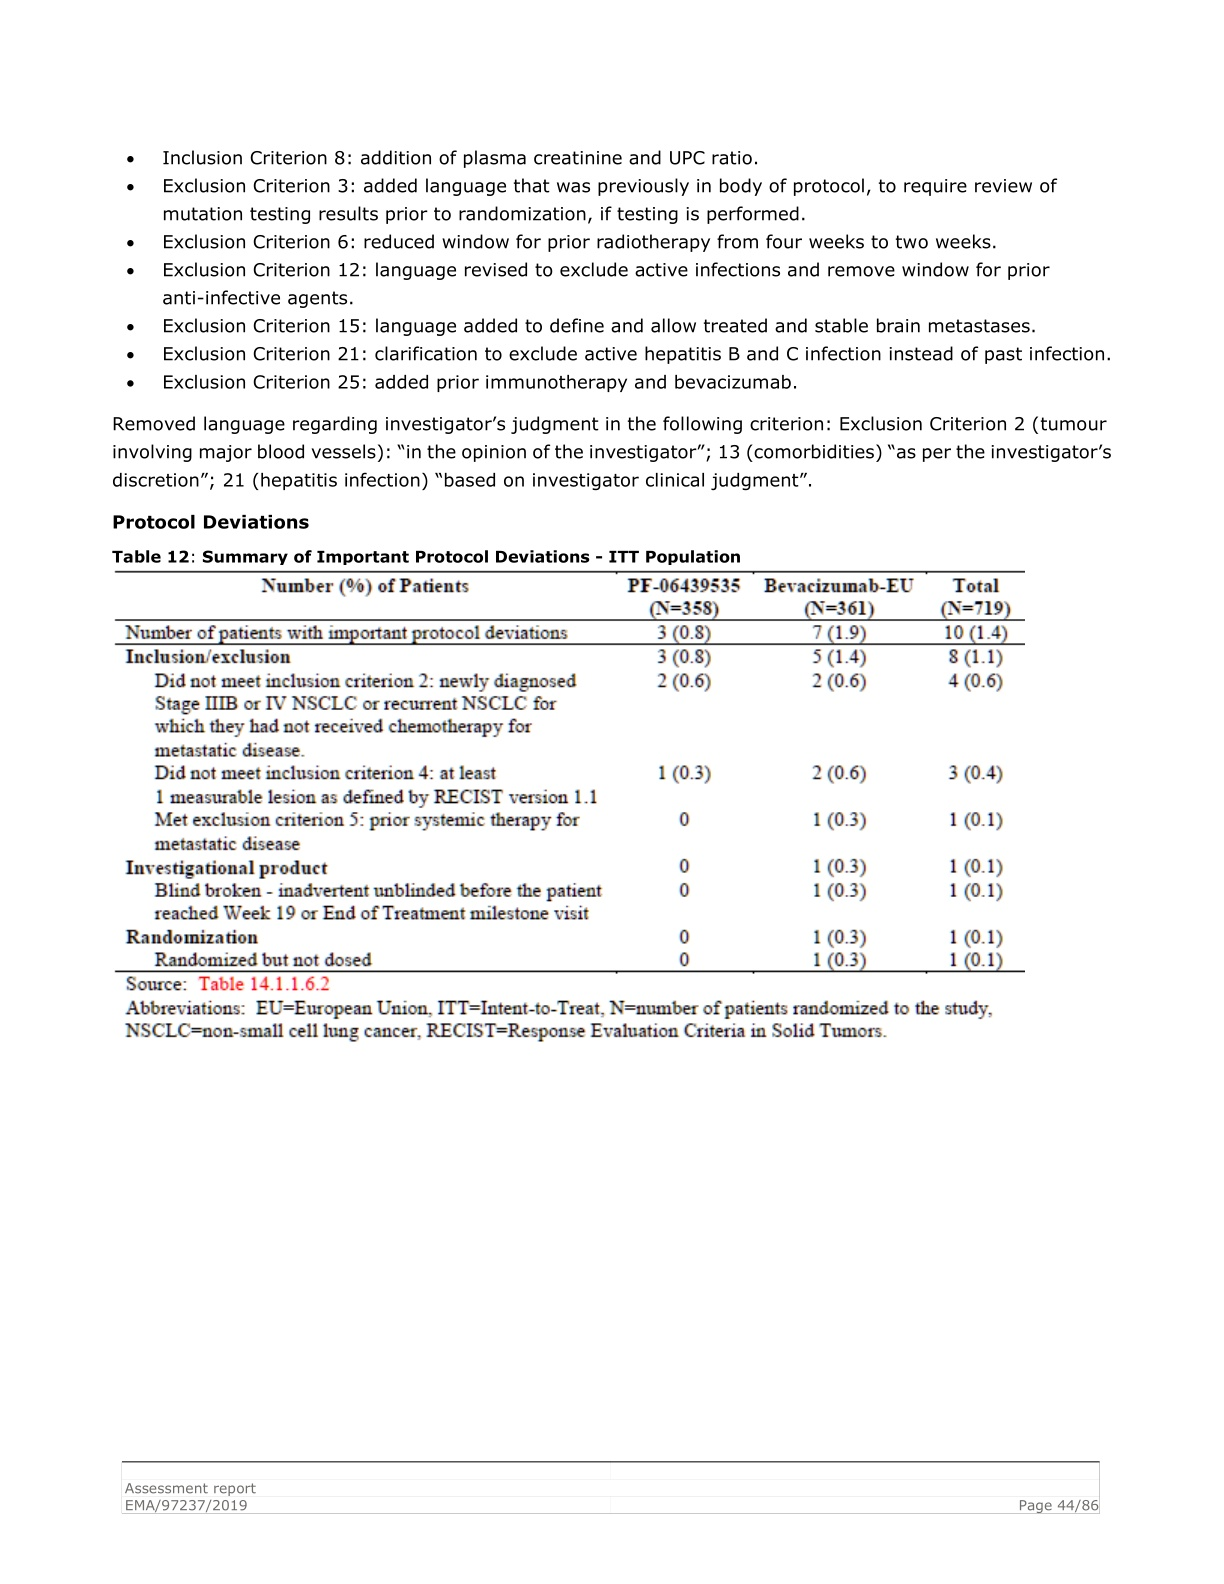partial_lined: (112, 568, 1029, 976)
